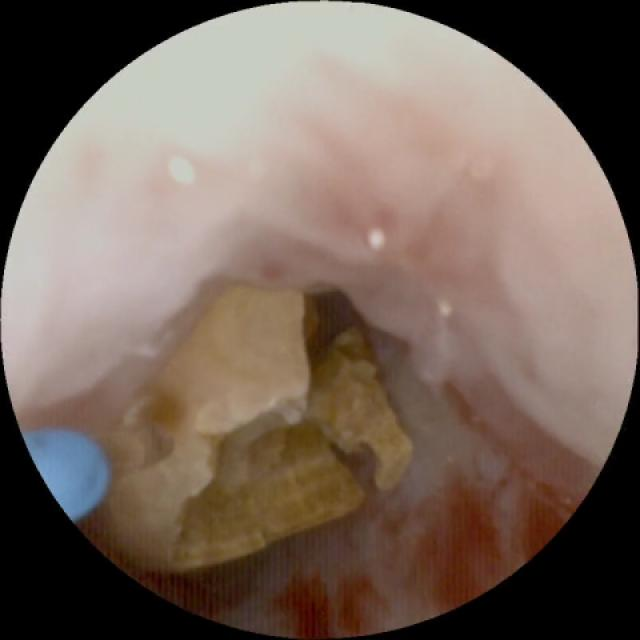fiber: (30, 437, 102, 518)
stone: (98, 286, 411, 568)
tissue: (12, 14, 626, 621)
